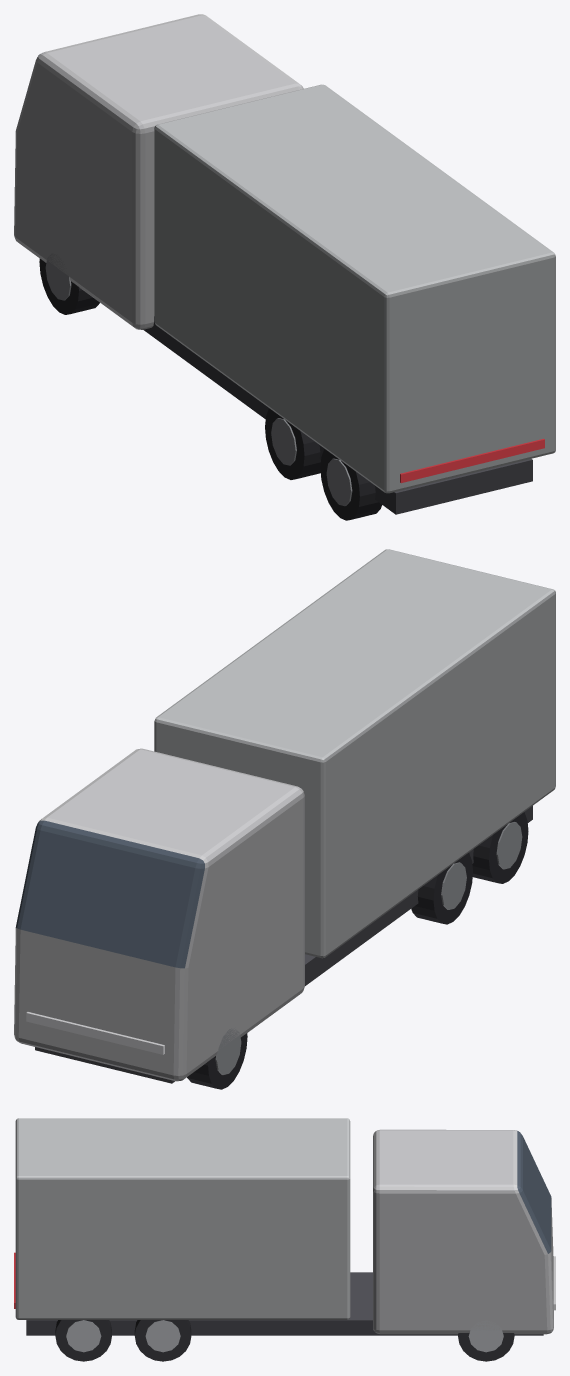
File: hauler.glb
3 views of the same model, one above another, from view 1: azimuth 30°, elevation 25°; view 2: azimuth 150°, elevation 25°; view 3: azimuth 270°, elevation 25° (orthographic). The views are drawn at different scales.
Visible parts, largest first — view 1: hauler; view 2: hauler; view 3: hauler.
Boxes of the visible parts, x1,y1,x2,y2 form: hauler: (14, 14, 555, 520); hauler: (14, 549, 555, 1089); hauler: (14, 1118, 555, 1361).
Size of the model in its own units: 2.5 by 3.6 by 9.56.
